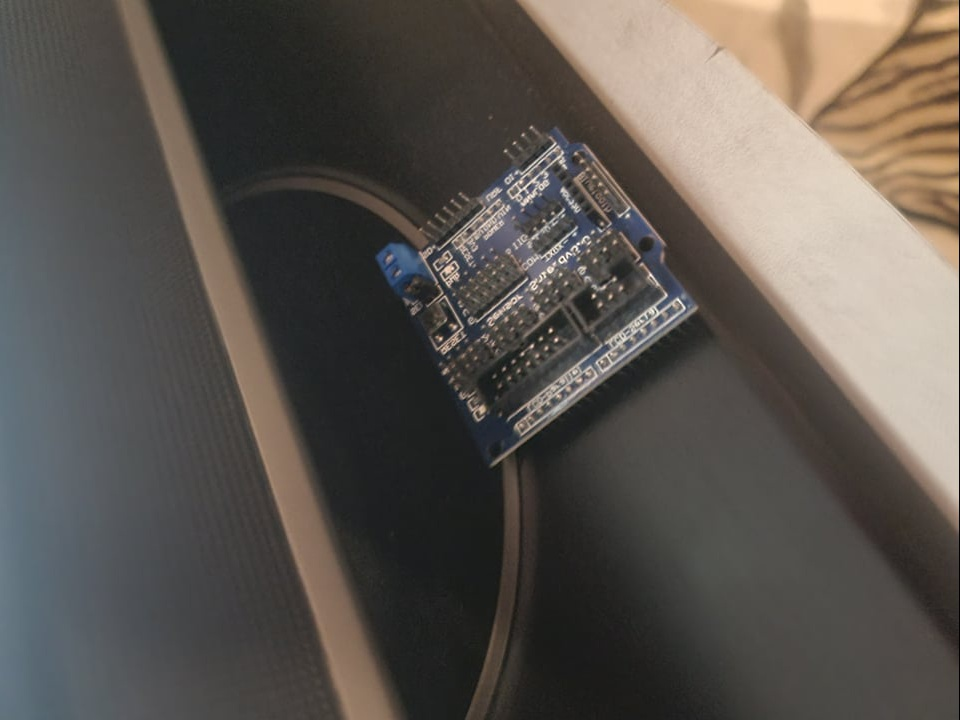5V EXPANSION: (377, 122, 704, 473)
